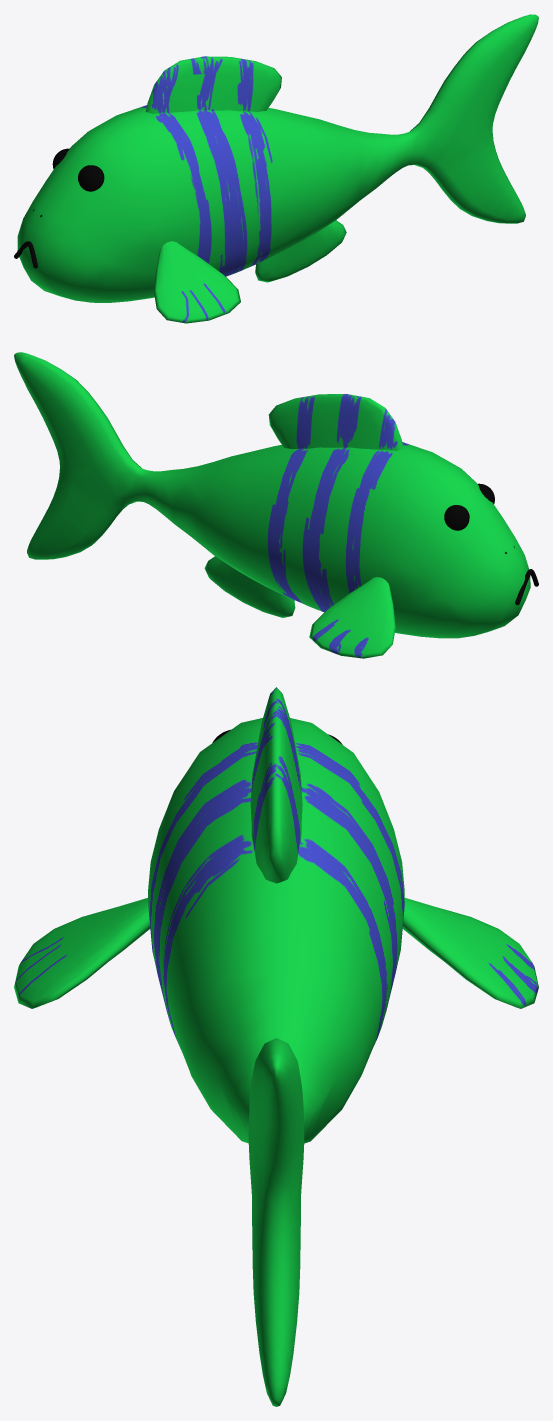
File: Basic Fish.glb
3 views of the same model, one above another, from view 1: azimuth 30°, elevation 25°; view 2: azimuth 150°, elevation 25°; view 3: azimuth 270°, elevation 25° (orthographic). The views are drawn at different scales.
Visible parts, largest first — view 1: mesh_id27, mesh_id29; view 2: mesh_id27, mesh_id36; view 3: mesh_id27.
Boxes of the visible parts, <box> form: mesh_id27: <box>17,14,538,323</box>; mesh_id29: <box>78,165,104,191</box>; mesh_id27: <box>14,352,530,658</box>; mesh_id36: <box>444,505,469,530</box>; mesh_id27: <box>14,687,538,1406</box>.
Size of the model in its own units: 1.23 by 0.5557 by 0.6196.
Materials: 4 (4 with a texture image).
